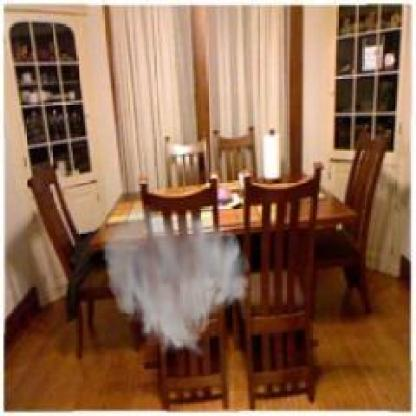Smoke: (101, 203, 253, 360)
